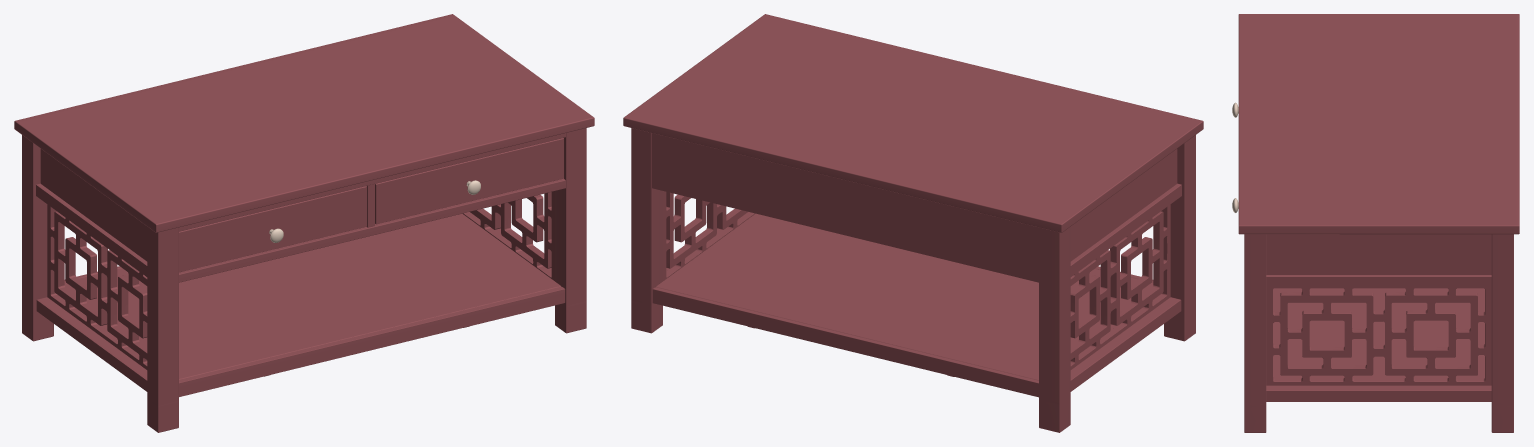
The model's file is abo-B07M7NSYC4.glb.
3 views of the same model, side by side, from view 1: azimuth 30°, elevation 25°; view 2: azimuth 150°, elevation 25°; view 3: azimuth 270°, elevation 25° (orthographic).
Bounding box in the file's own units: 1.07 × 0.493 × 0.612.
Materials: 1 (1 with a texture image).
